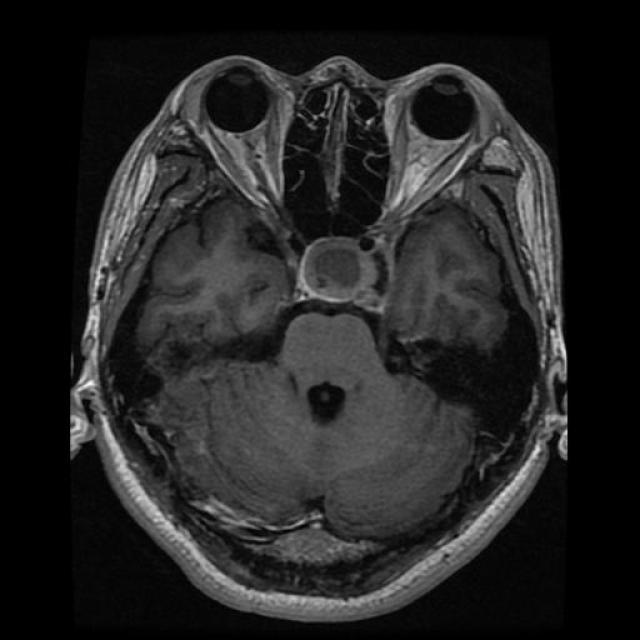pituitary: (296, 224, 376, 320)
